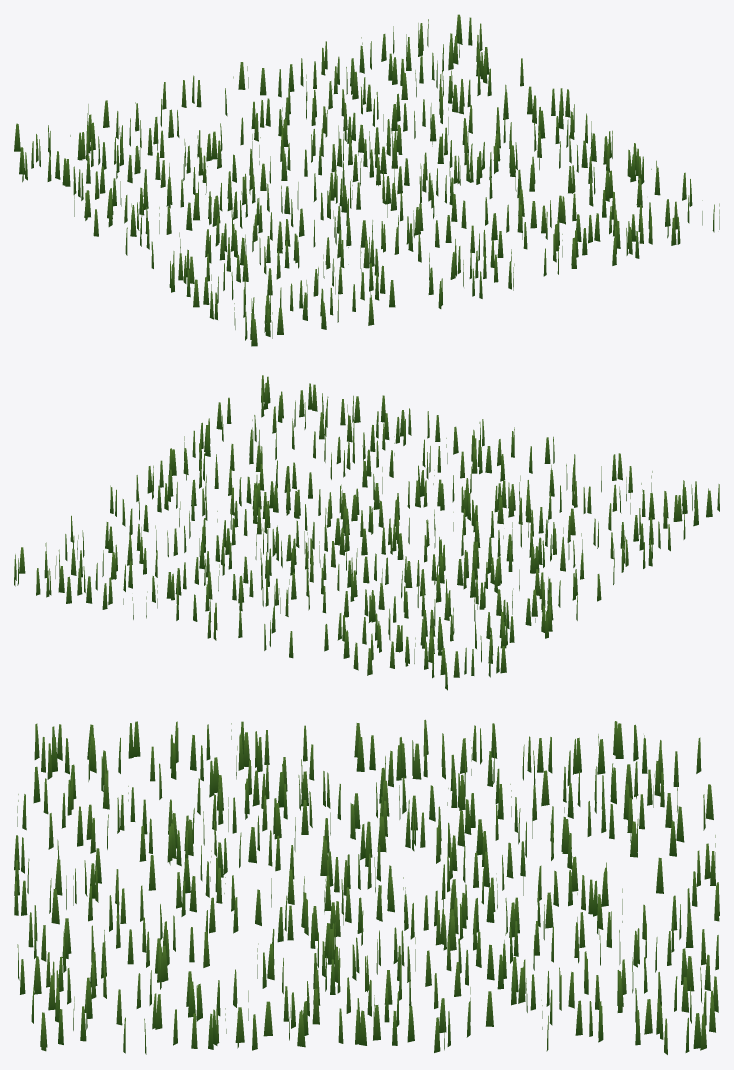
Rendered from Turf_Lawn_v4.glb.
3 renders of one model, top to bottom at view 1: azimuth 30°, elevation 25°; view 2: azimuth 150°, elevation 25°; view 3: azimuth 270°, elevation 25°, orthographic. The views are drawn at different scales.
Visible parts, largest first — view 1: Turf_Lawn_v4; view 2: Turf_Lawn_v4; view 3: Turf_Lawn_v4.
Boxes of the visible parts, x1,y1,x2,y2 form: Turf_Lawn_v4: [14, 14, 719, 346]; Turf_Lawn_v4: [14, 375, 719, 690]; Turf_Lawn_v4: [14, 719, 719, 1054].
Bounding box in the file's own units: 1.23 × 0.0669 × 1.22.
